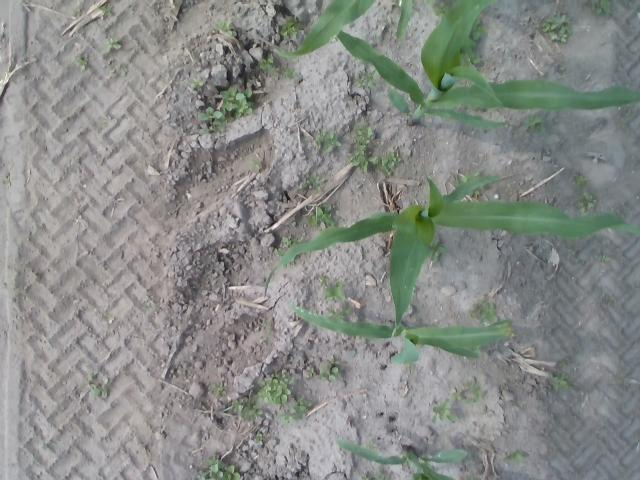Maize: (264, 173, 639, 346), (337, 0, 640, 131), (285, 298, 515, 365), (275, 0, 374, 56), (336, 438, 468, 480), (396, 0, 413, 39)
Weeds: (346, 125, 402, 179), (542, 14, 580, 47), (256, 372, 294, 404), (195, 455, 242, 480), (276, 395, 312, 427), (220, 86, 253, 118), (449, 378, 486, 406), (230, 390, 262, 422), (85, 362, 110, 400), (197, 106, 226, 134), (306, 203, 338, 228), (430, 398, 458, 426), (314, 130, 341, 155), (470, 302, 502, 323), (280, 15, 306, 40), (324, 280, 348, 304), (575, 190, 598, 214), (354, 68, 379, 90), (463, 39, 484, 65), (502, 446, 529, 466), (298, 172, 323, 193), (260, 316, 278, 345), (102, 58, 129, 76), (320, 357, 340, 381), (523, 115, 547, 135), (582, 0, 613, 15), (100, 37, 124, 56), (213, 19, 237, 38), (322, 306, 352, 320), (431, 236, 446, 262), (472, 19, 490, 40), (257, 54, 276, 73), (140, 290, 156, 312), (186, 75, 205, 92), (548, 374, 570, 388), (280, 63, 296, 82), (0, 173, 20, 187), (100, 6, 116, 23), (76, 52, 91, 70), (362, 470, 389, 480), (209, 381, 226, 396), (574, 172, 588, 188), (306, 364, 318, 380), (434, 2, 450, 14), (100, 112, 112, 128), (451, 174, 466, 186), (626, 107, 639, 120), (252, 155, 264, 169), (596, 255, 614, 264), (318, 273, 330, 286), (102, 314, 116, 324), (279, 236, 292, 246), (255, 432, 262, 450), (474, 190, 484, 201), (369, 441, 381, 450), (618, 118, 626, 131), (558, 360, 570, 368), (424, 0, 438, 5), (471, 170, 482, 176)
